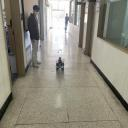cart: (56, 59, 65, 71)
